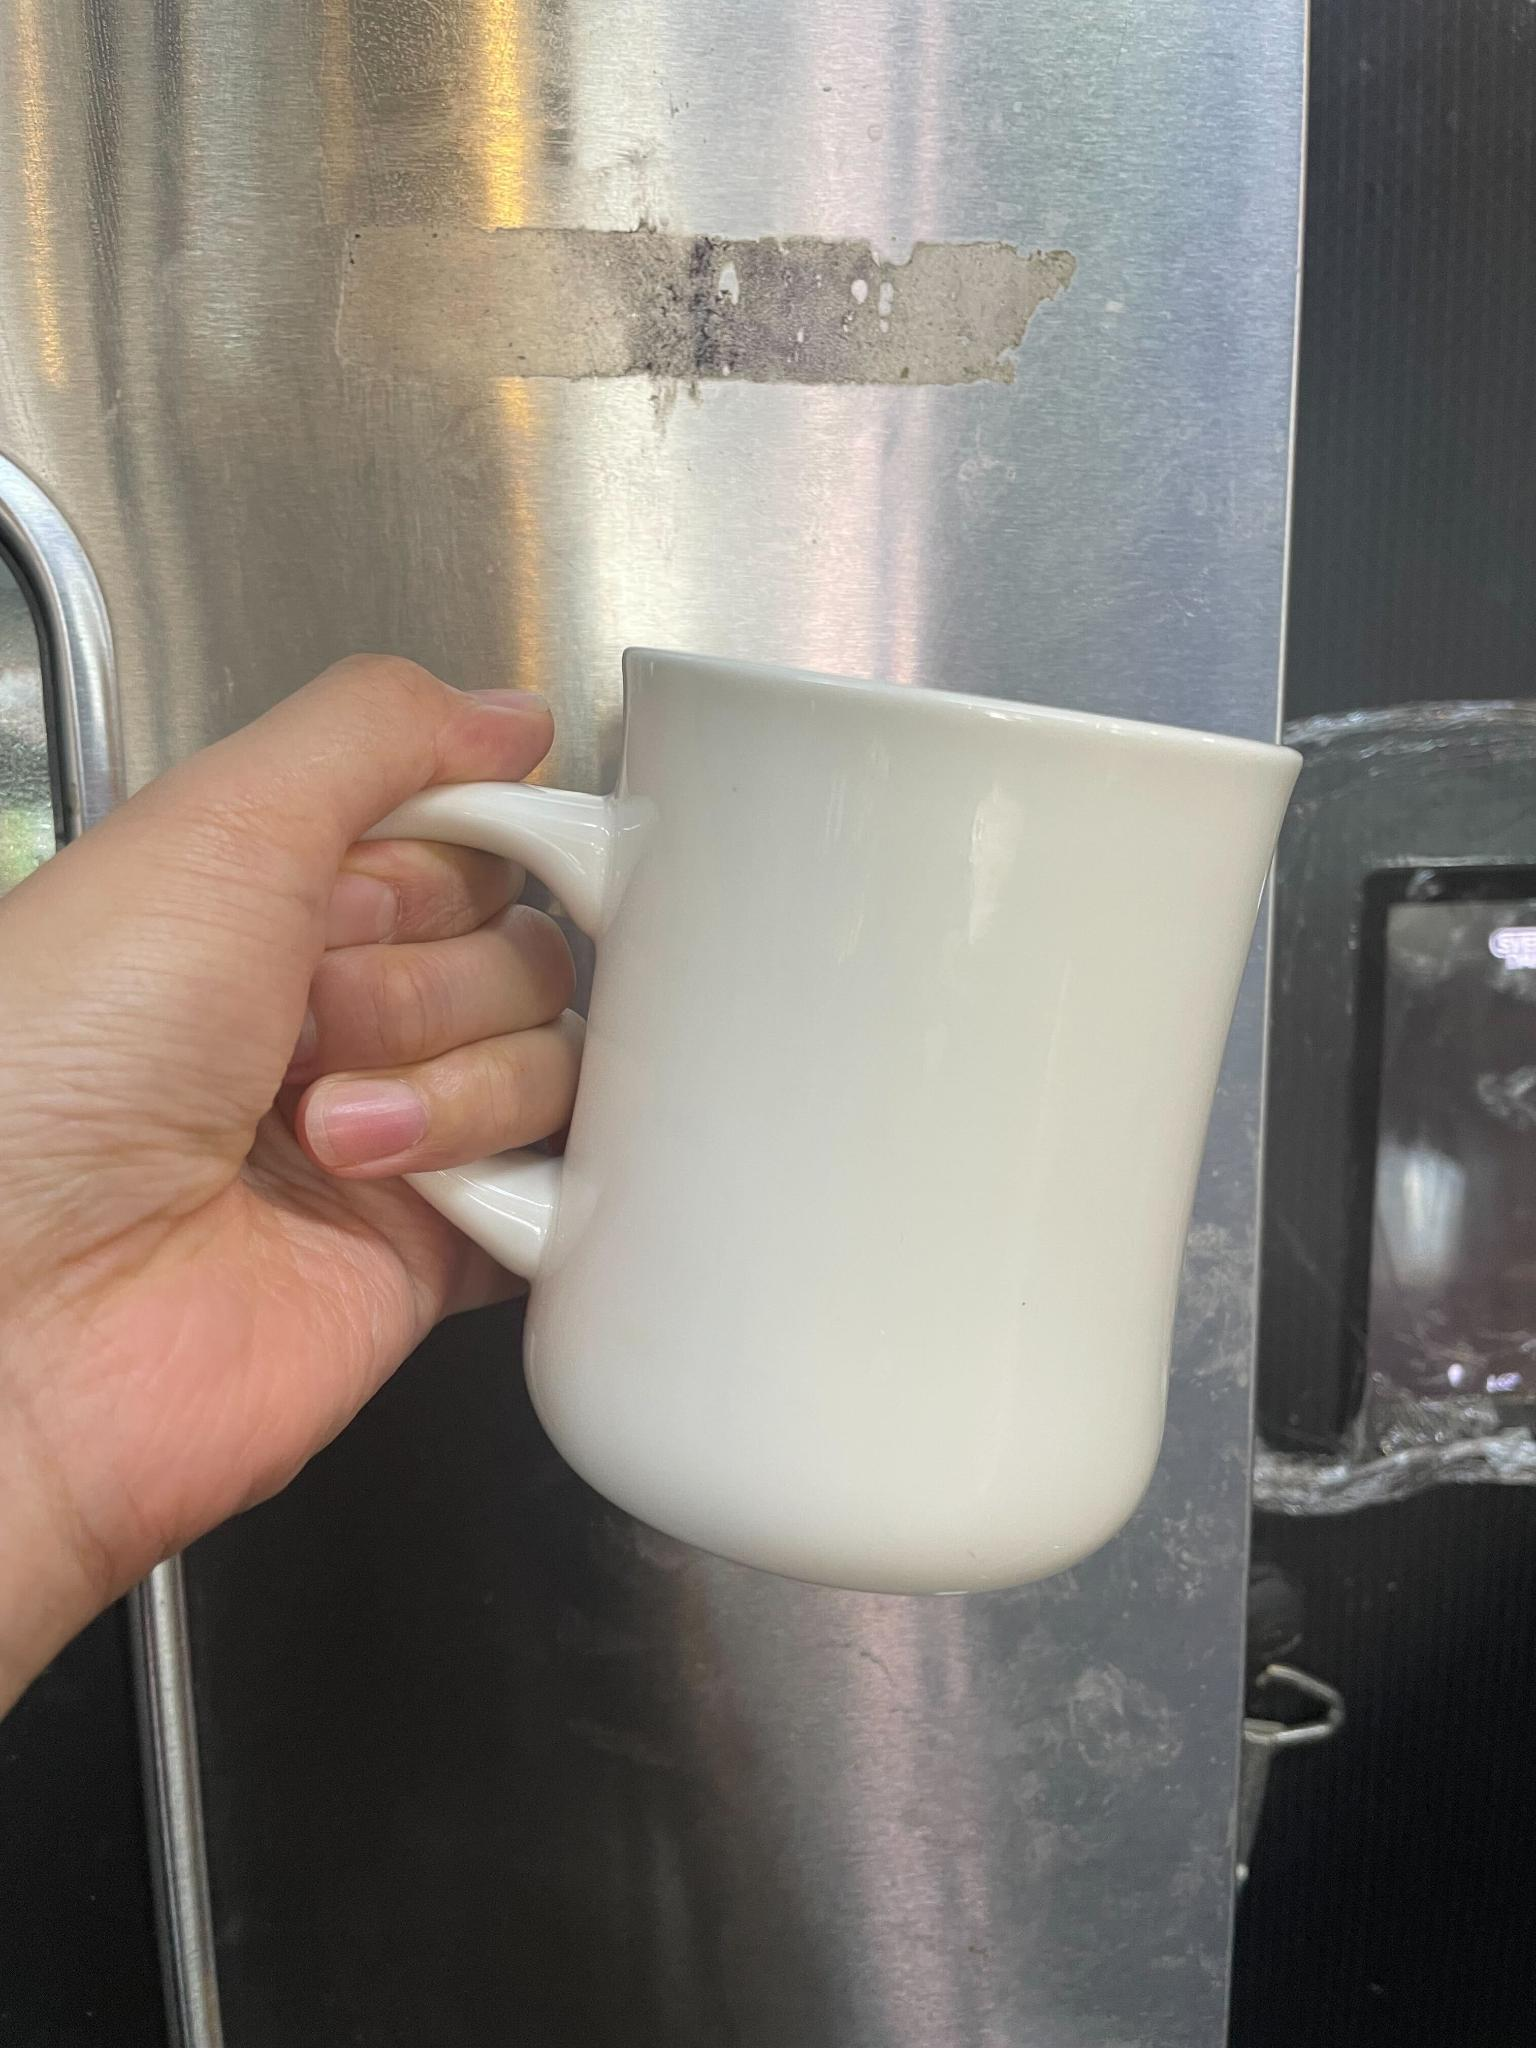cup: (0, 600, 1331, 1798)
